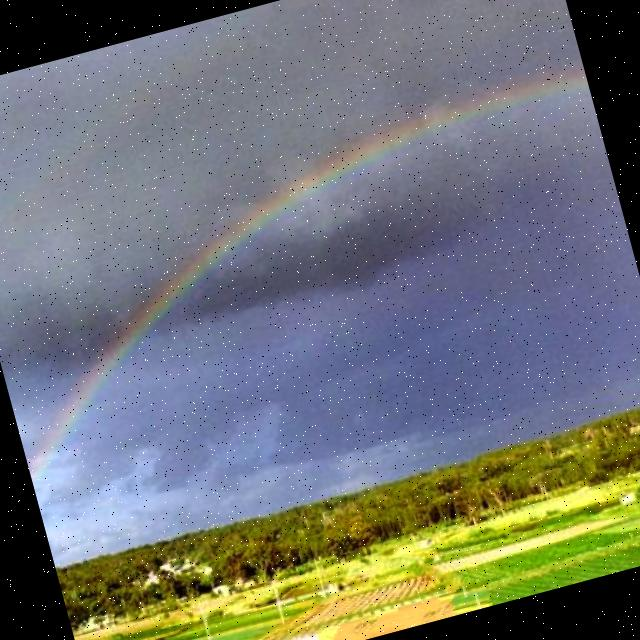Ns: (1, 1, 640, 523)
